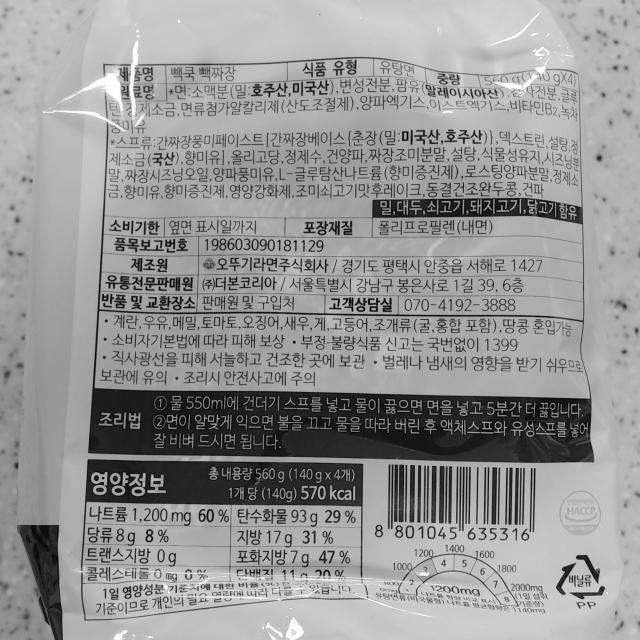Nutrition Label: (83, 457, 375, 618)
